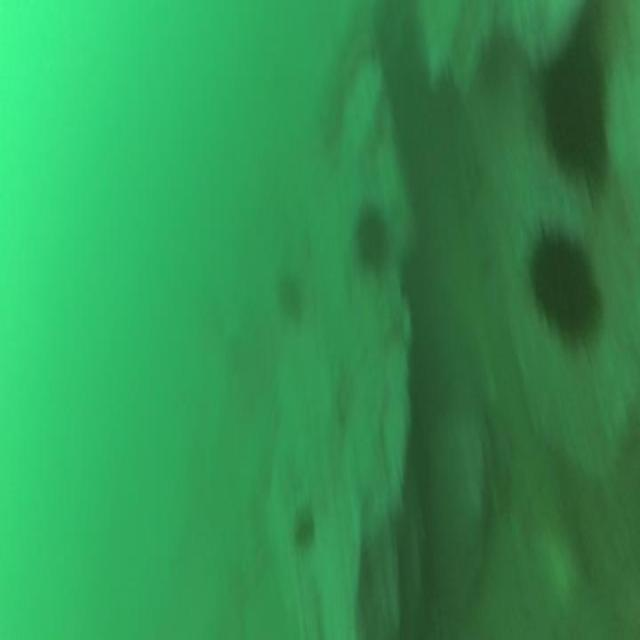echinus: (520, 212, 608, 356), (533, 41, 611, 191), (346, 190, 393, 276), (273, 264, 303, 329)
